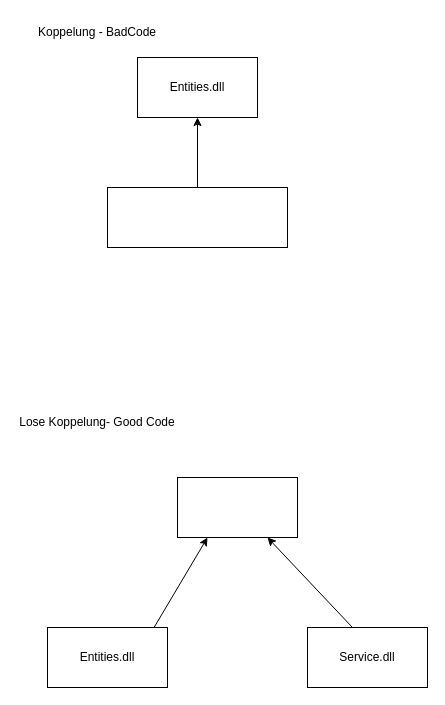
This 445x705 diagram has some shape labels left out. Here are the shapes that lost their labels. From the top down, the box of each, then its label:
(106, 186, 288, 248): Service.dll void Repair(BadCar car)
(176, 476, 298, 538): Interface.dll
